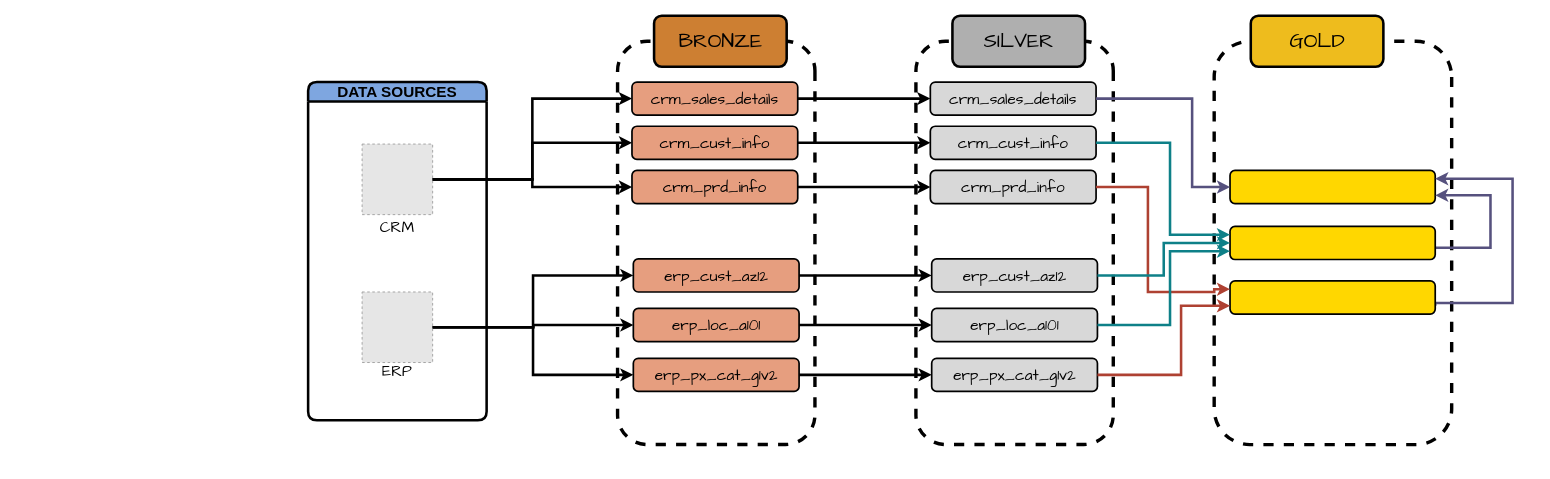
This 1550x479 diagram has some shape labels left out. Grey dashed boxes stand in for pictures. Each missing label, with the centre of its shape:
"dim_customer_information" belongs at [1332,242].
"dim_product_information" belongs at [1332,297].
"fact_sales_information" belongs at [1332,186].
